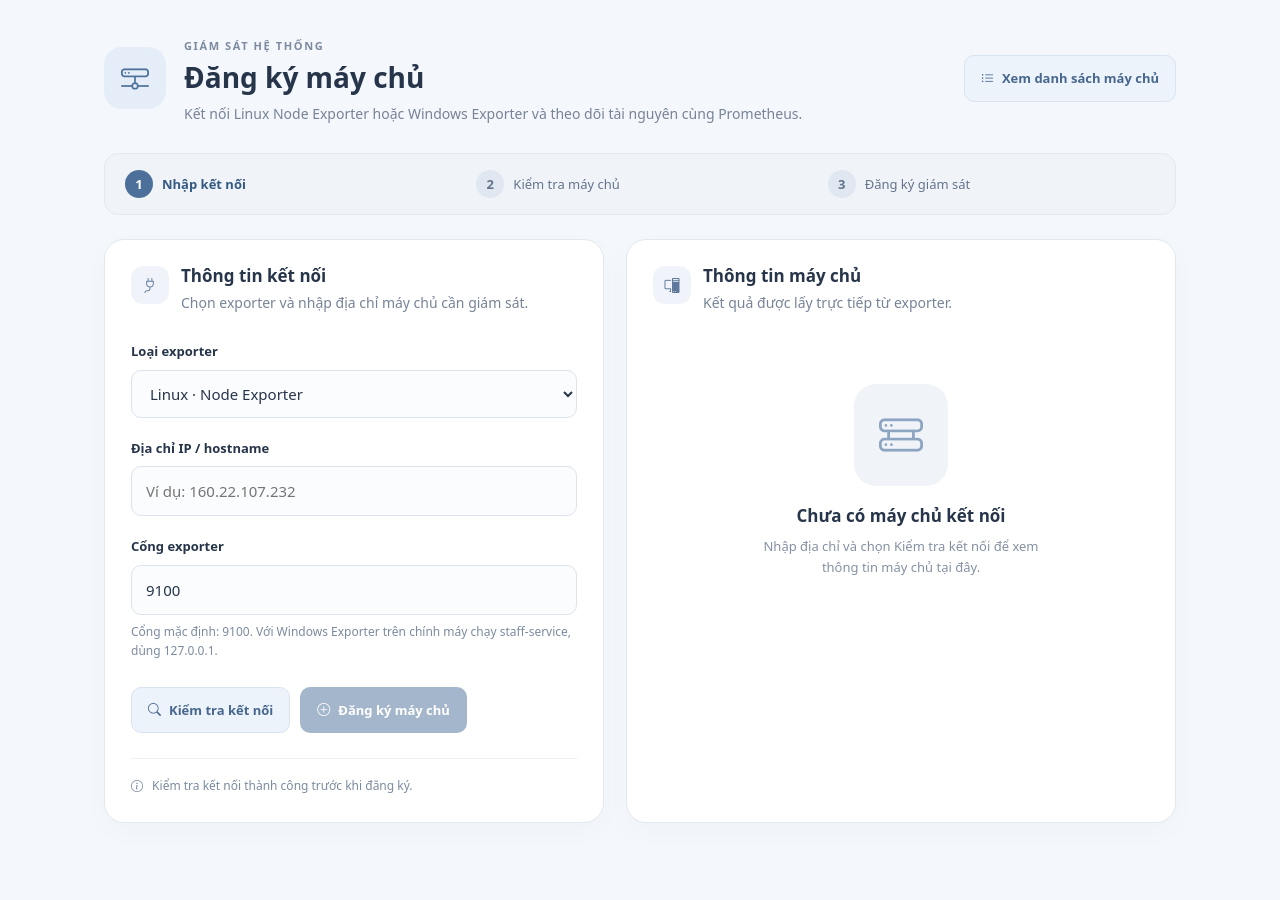
Test: shows list errors and supports retry through refresh
Click the button with class "list-toggle": (1070, 78) [964,55,1176,102]
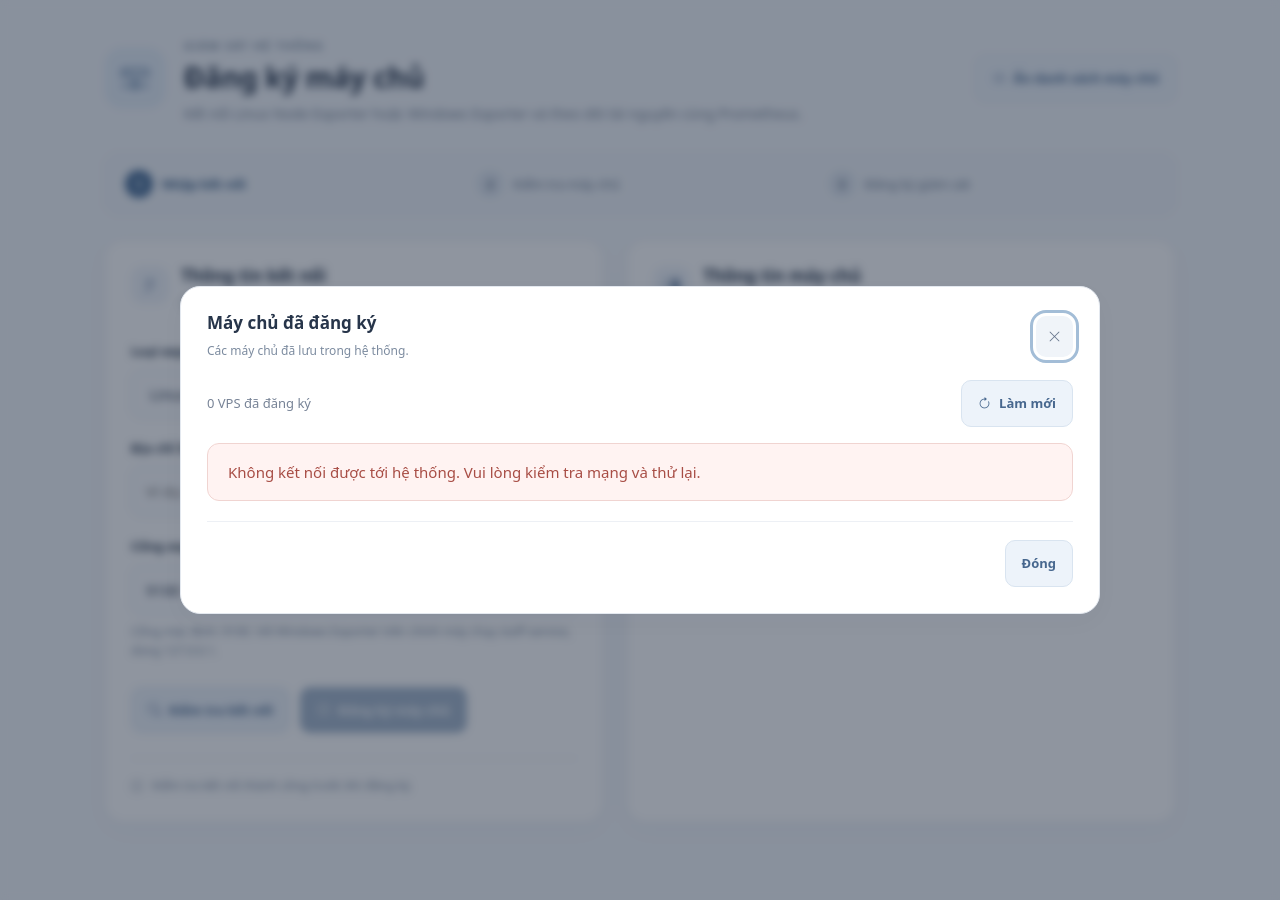
Expected: the message "Không kết nối được tới hệ thống. Vui lòng kiểm tra mạng và thử lại." is shown, [207,443,1073,501]
Click the button "Làm mới": (1017, 403) [961,380,1073,427]
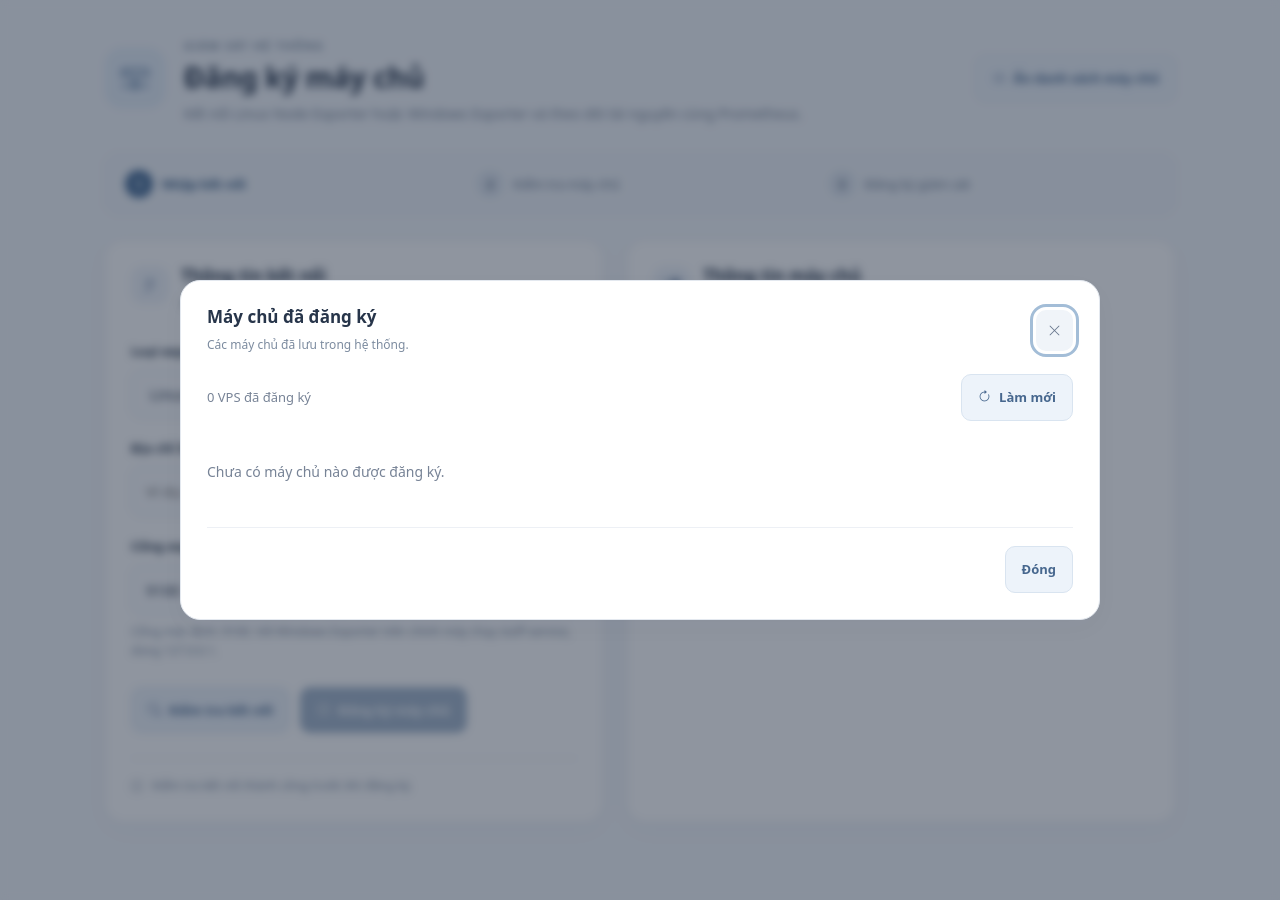
Expected: the dialog with id "registered-vps-list" shows "Chưa có máy chủ nào", [207,462,444,481]
